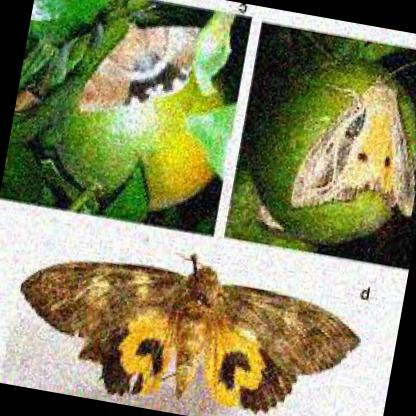fruit sucking moth: (19, 257, 361, 412)
